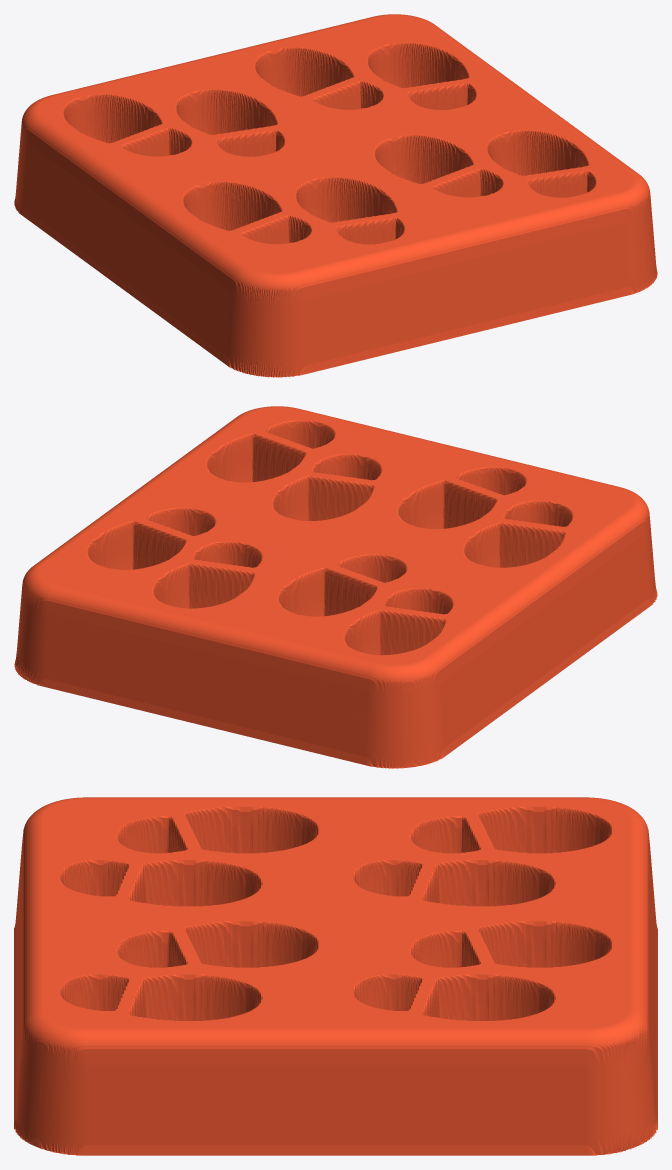
The model's file is mold.glb.
3 renders of one model, top to bottom at view 1: azimuth 30°, elevation 25°; view 2: azimuth 150°, elevation 25°; view 3: azimuth 270°, elevation 25°, orthographic. The views are drawn at different scales.
Visible parts, largest first — view 1: geometry_0; view 2: geometry_0; view 3: geometry_0.
Part boxes in pixels (left/top/right/bottom): geometry_0: left=14, top=14, right=657, bottom=377; geometry_0: left=14, top=406, right=657, bottom=768; geometry_0: left=14, top=797, right=657, bottom=1155.
Size of the model in its own units: 0.0752 by 0.0159 by 0.0808.
